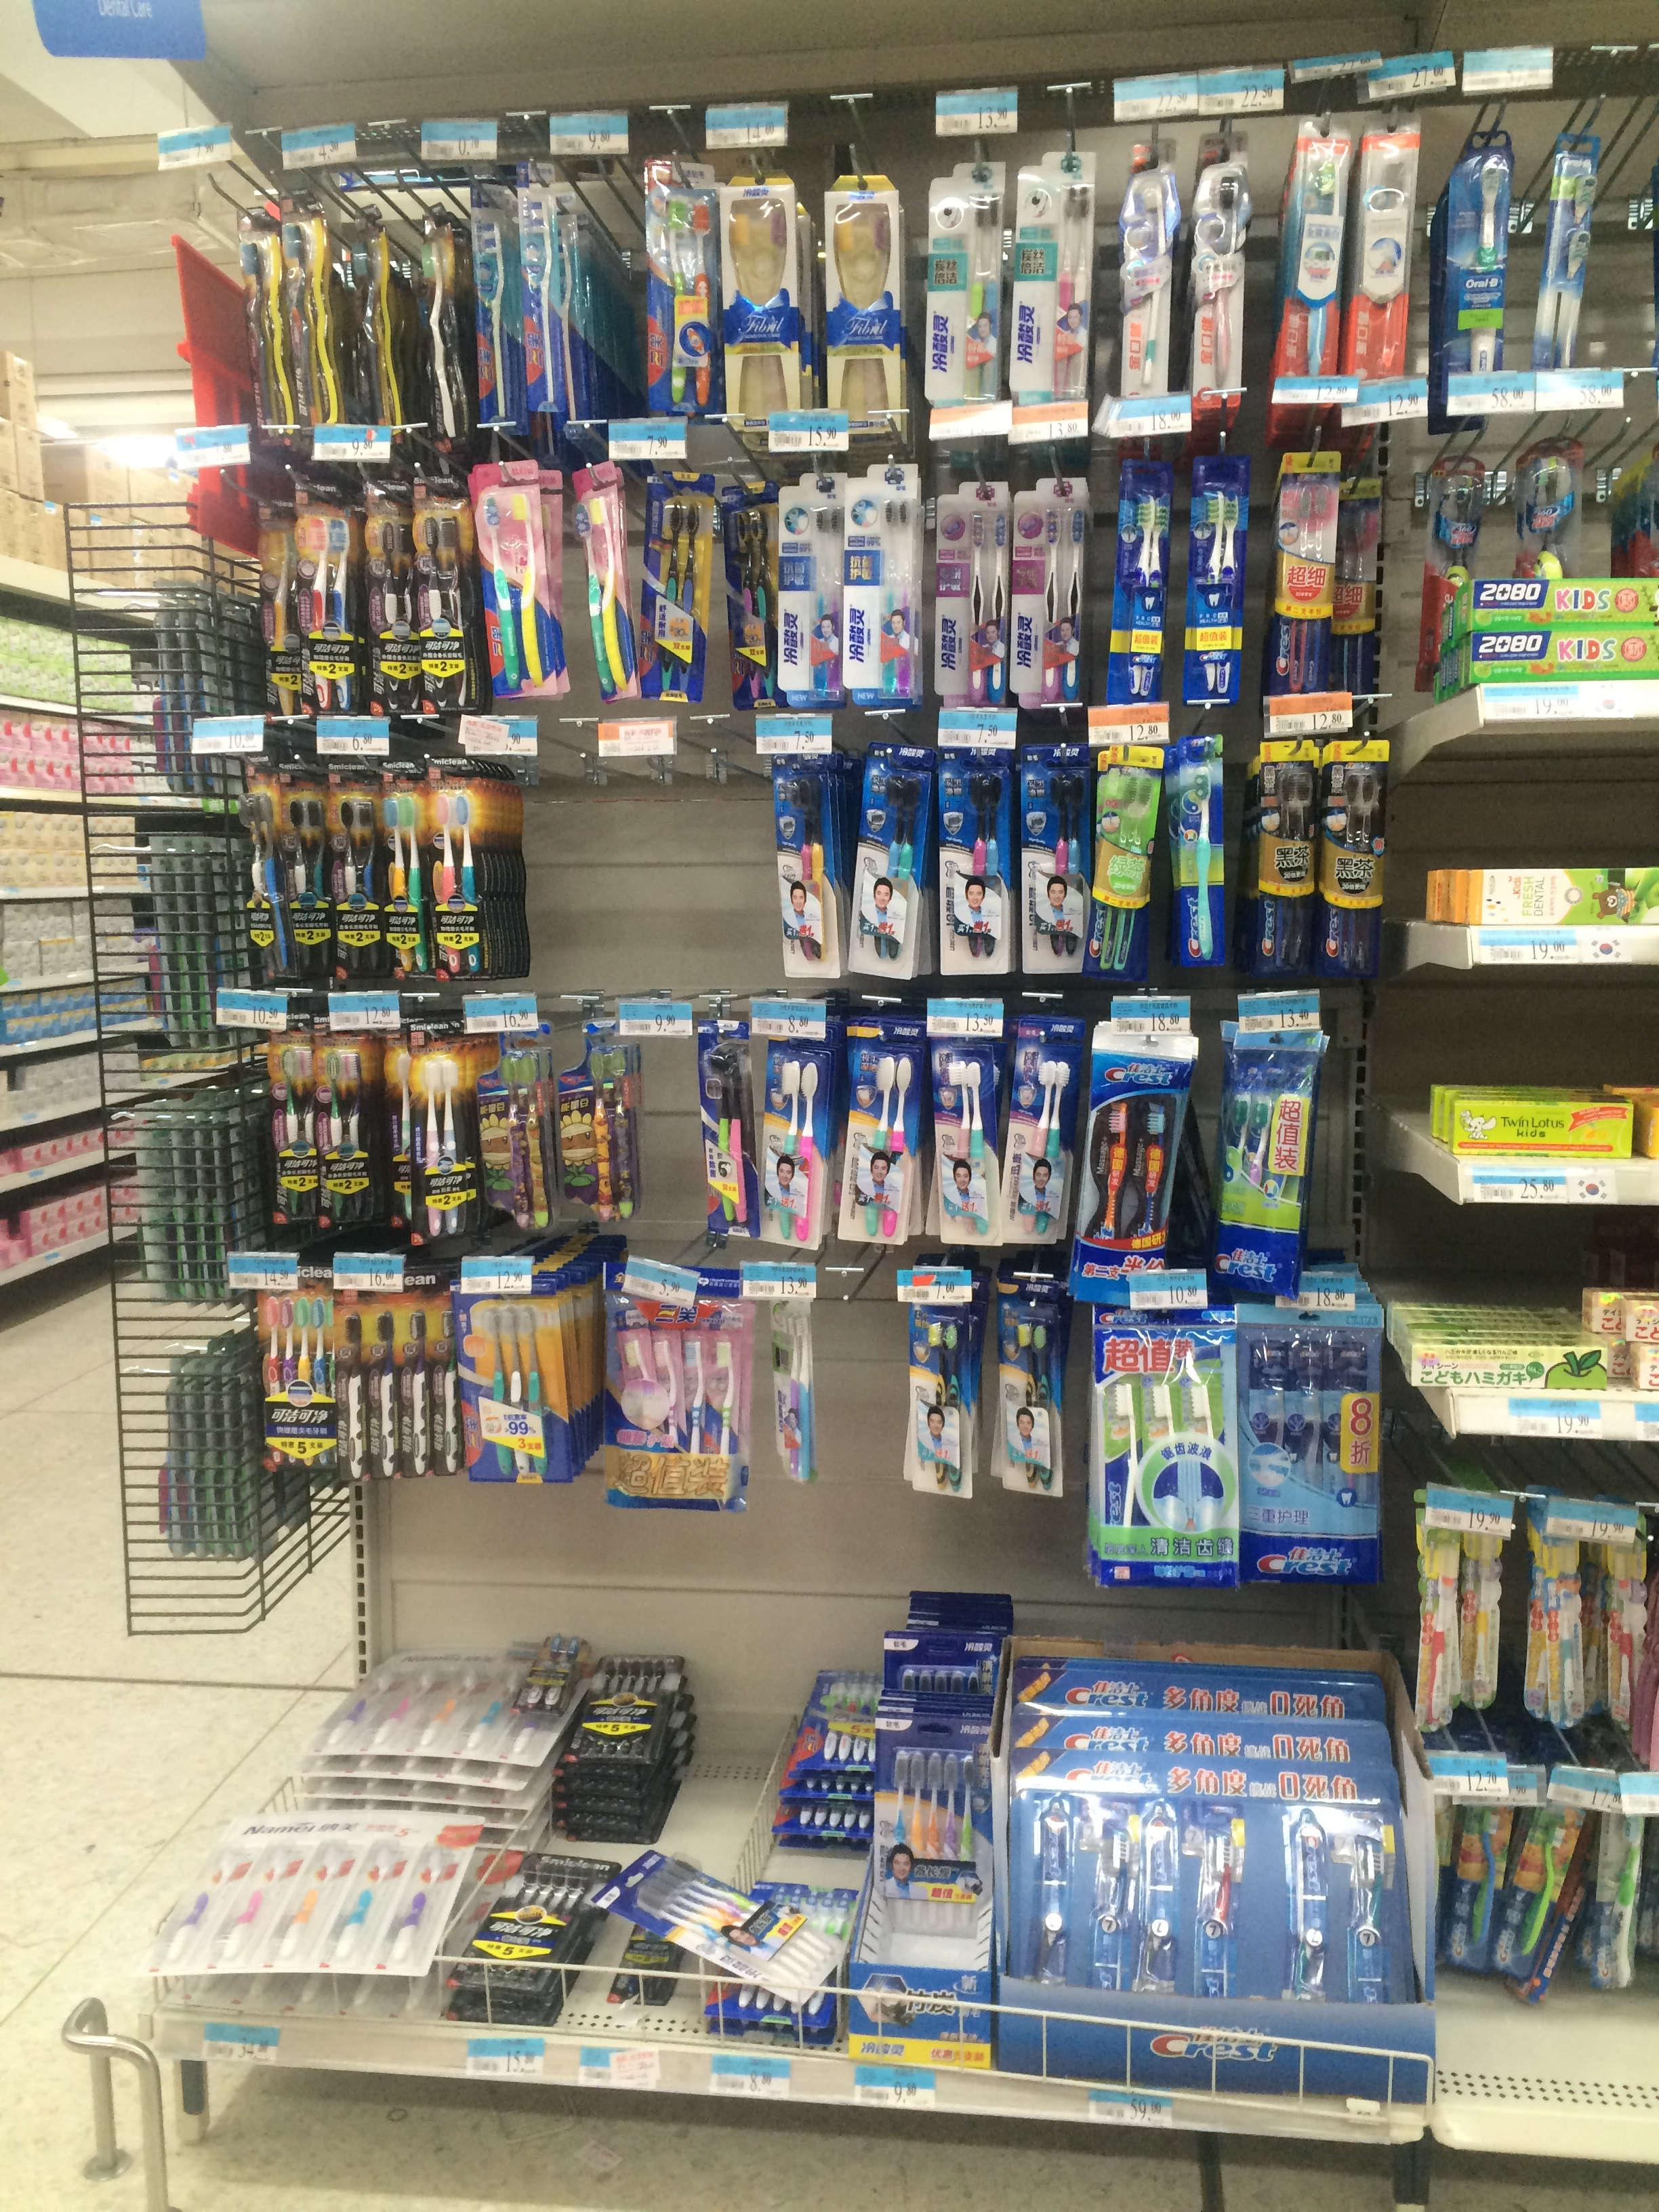misalignment: (601, 1839, 843, 2001), (1534, 108, 1615, 373), (566, 465, 643, 711), (758, 1280, 829, 1482), (509, 1615, 589, 1724)
